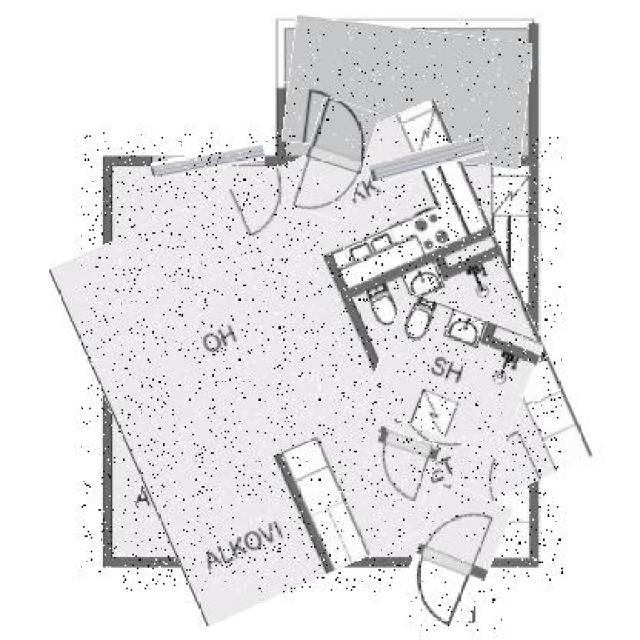door: (406, 486, 502, 632), (298, 100, 371, 220), (368, 432, 435, 500)
window: (369, 143, 486, 177), (150, 148, 264, 174)
zone: (80, 132, 563, 592), (285, 23, 529, 162), (372, 305, 536, 449)
